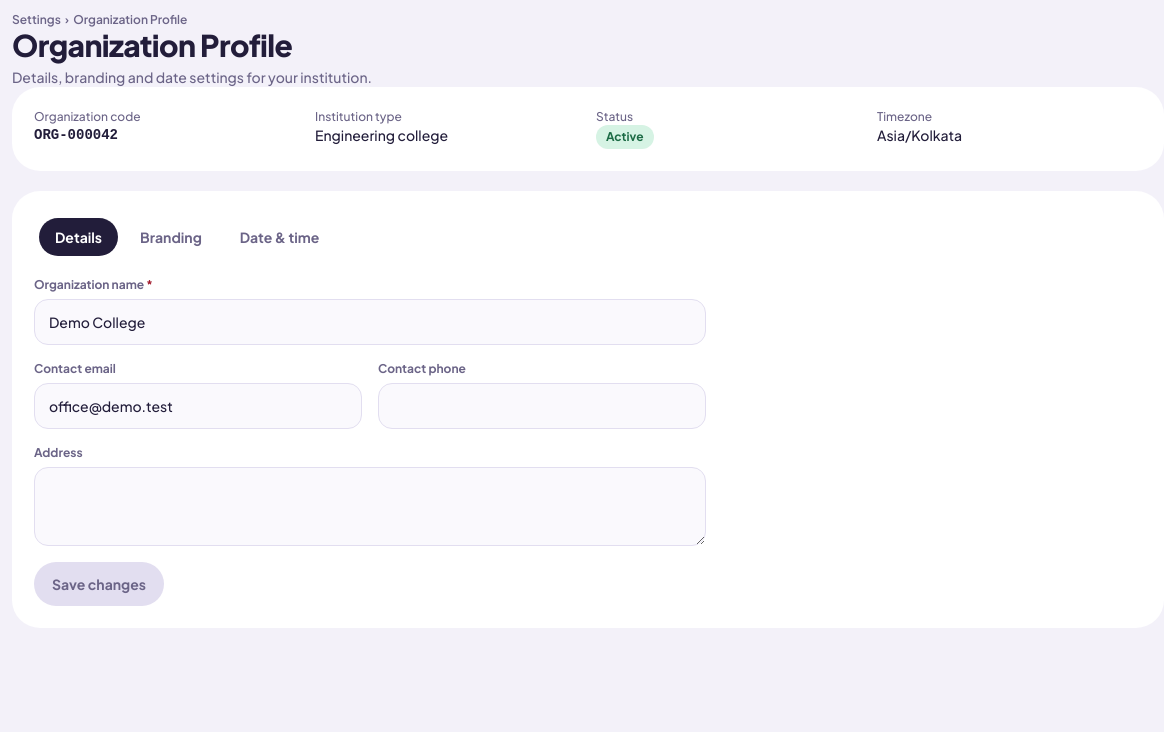
Test: OrganizationProfilePage › shows the server message when the backend refuses (e.g. not the owner)
This screenshot has width=1164, height=732.
Type "12345" into the field labelled "Contact phone".
click(542, 406); type("12345")  # box [378,383,706,429]
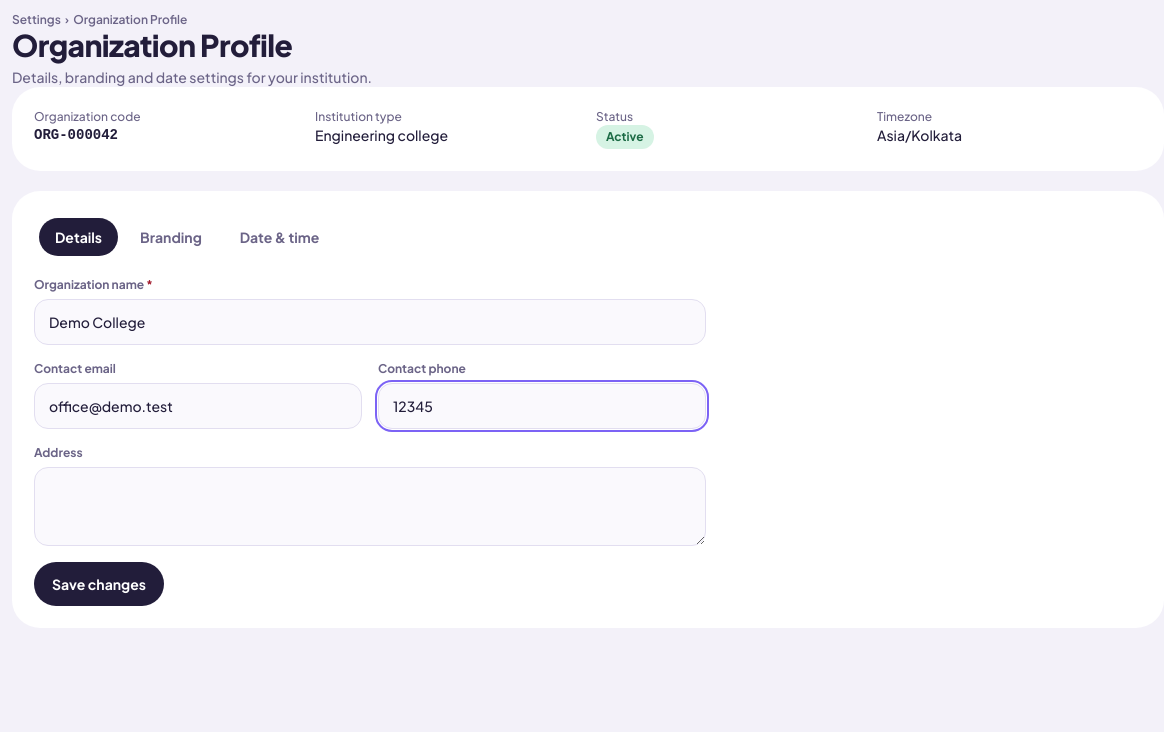
Click the button "Save changes".
click(99, 584)  # box [34,562,164,606]
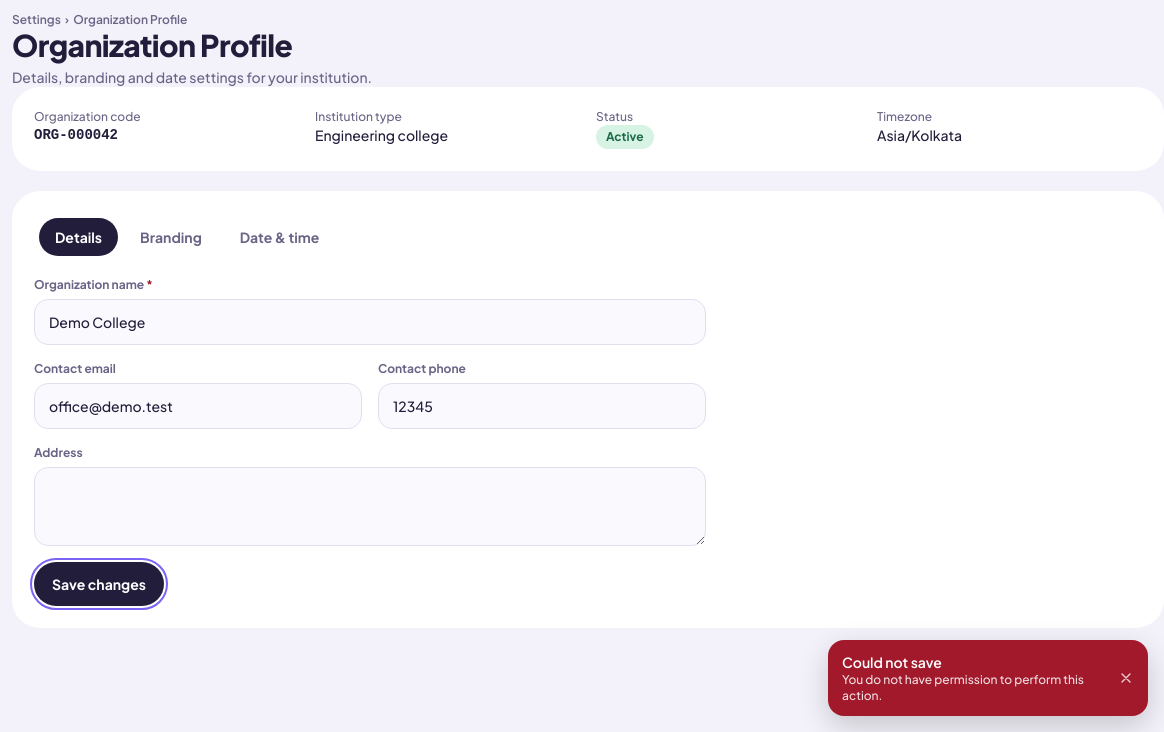
Check: the text "Could not save" is shown, box [842,653,942,671]
Check: the text "You do not have permission to perform this action." is shown, box [842,672,1106,704]
